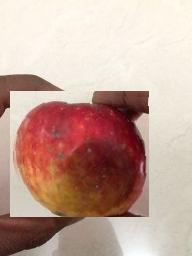Apple Semirotten: (11, 91, 150, 217)
